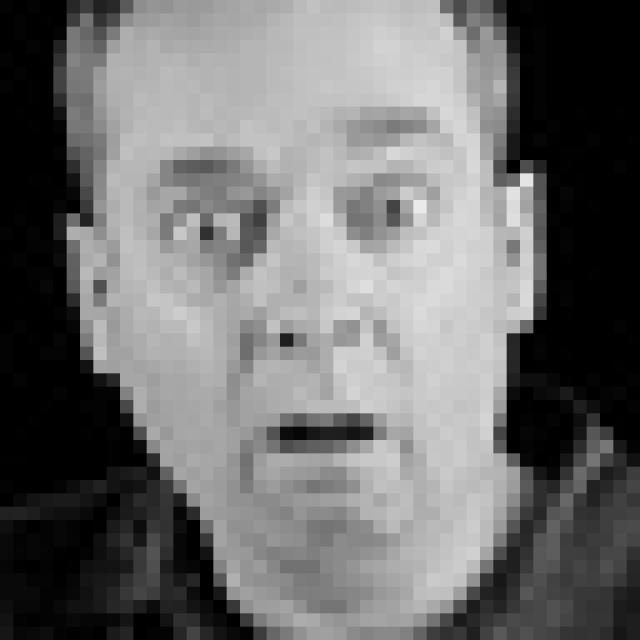fear: (146, 108, 457, 509)
